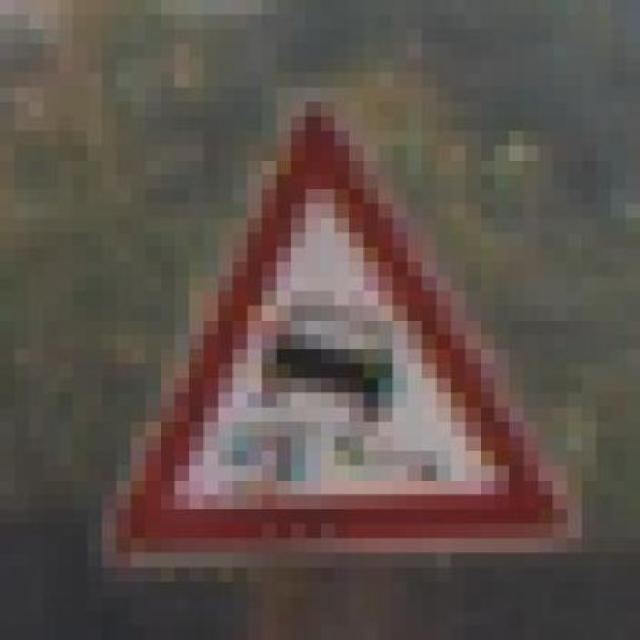Slippery Road Ahead: (87, 87, 582, 582)
